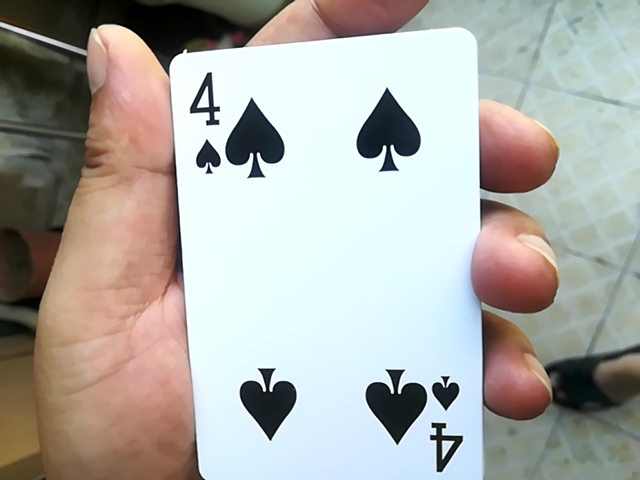ht 4: (159, 27, 470, 475)
